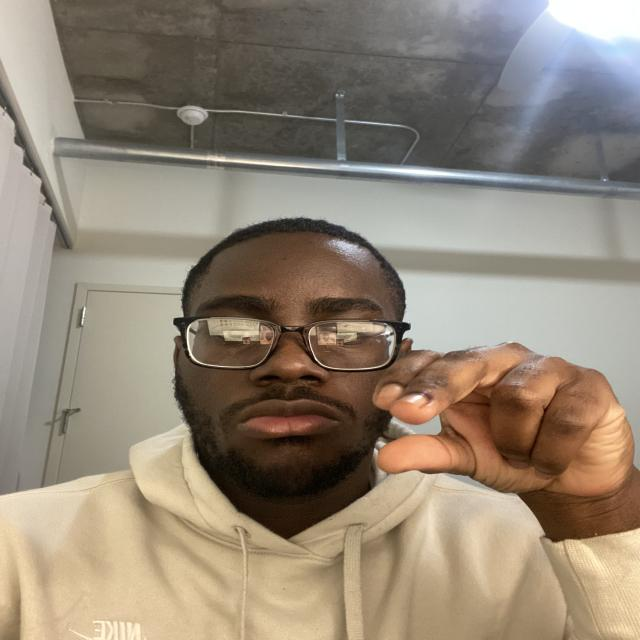No: (354, 323, 606, 535)
